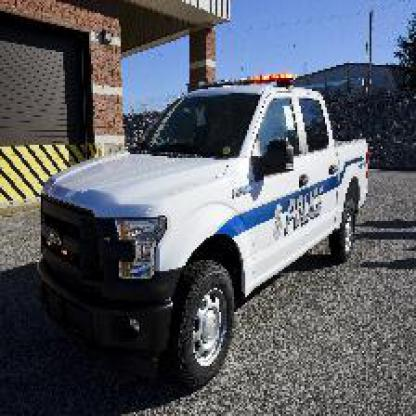emergency: (22, 67, 383, 368)
